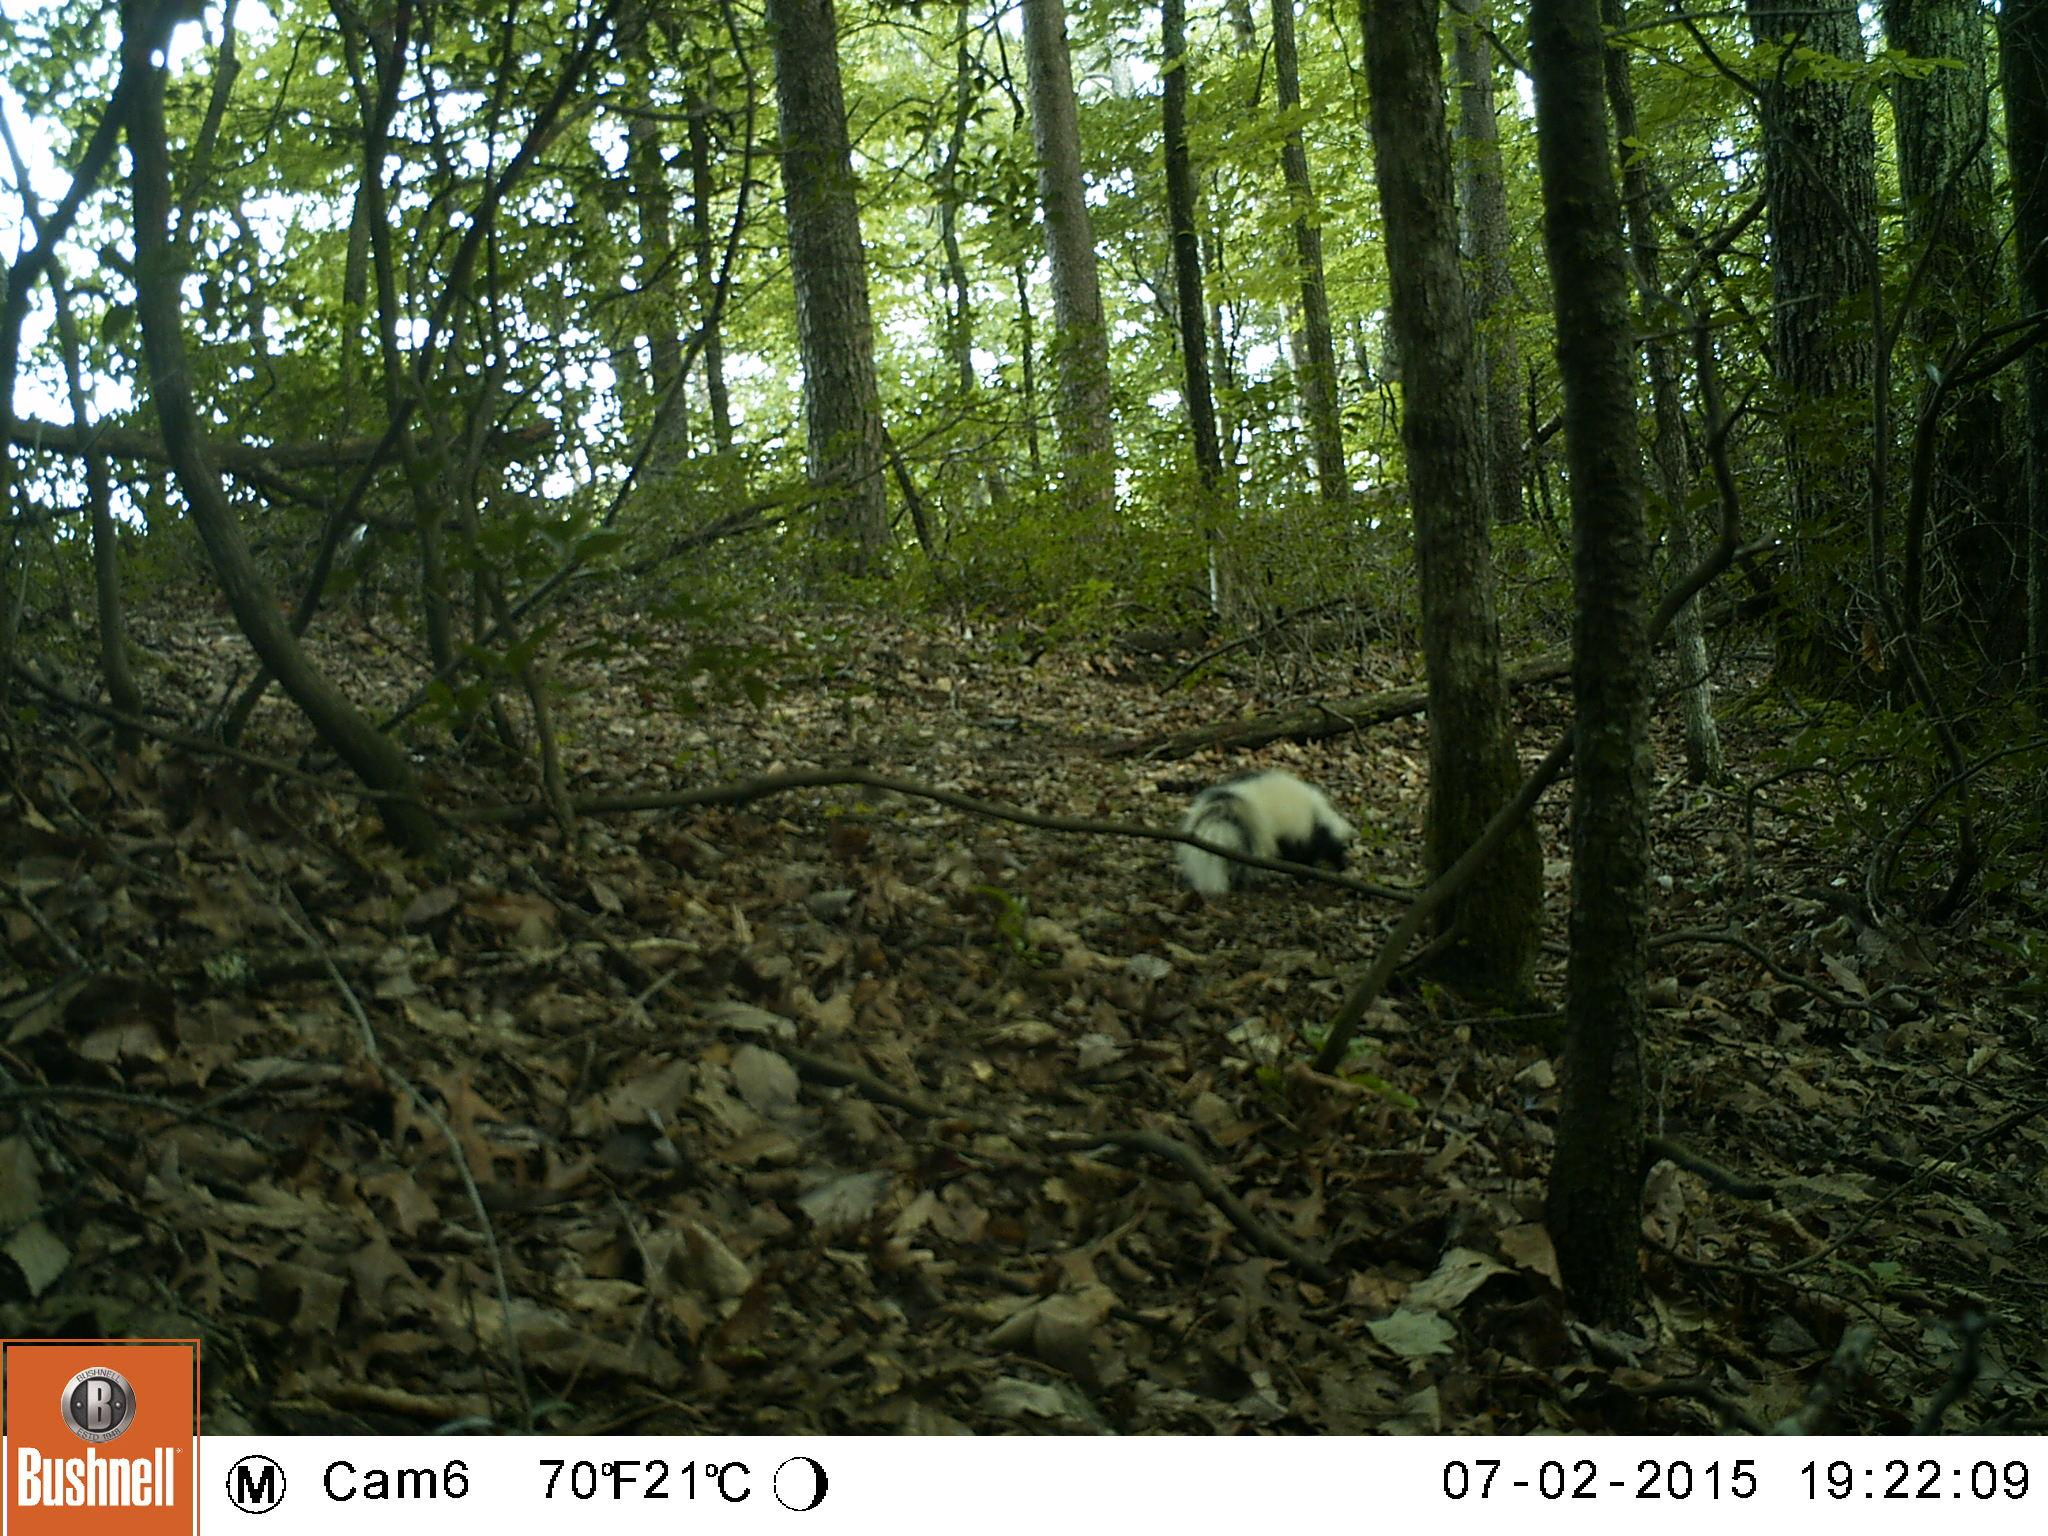Animal: (1177, 765, 1359, 907)
